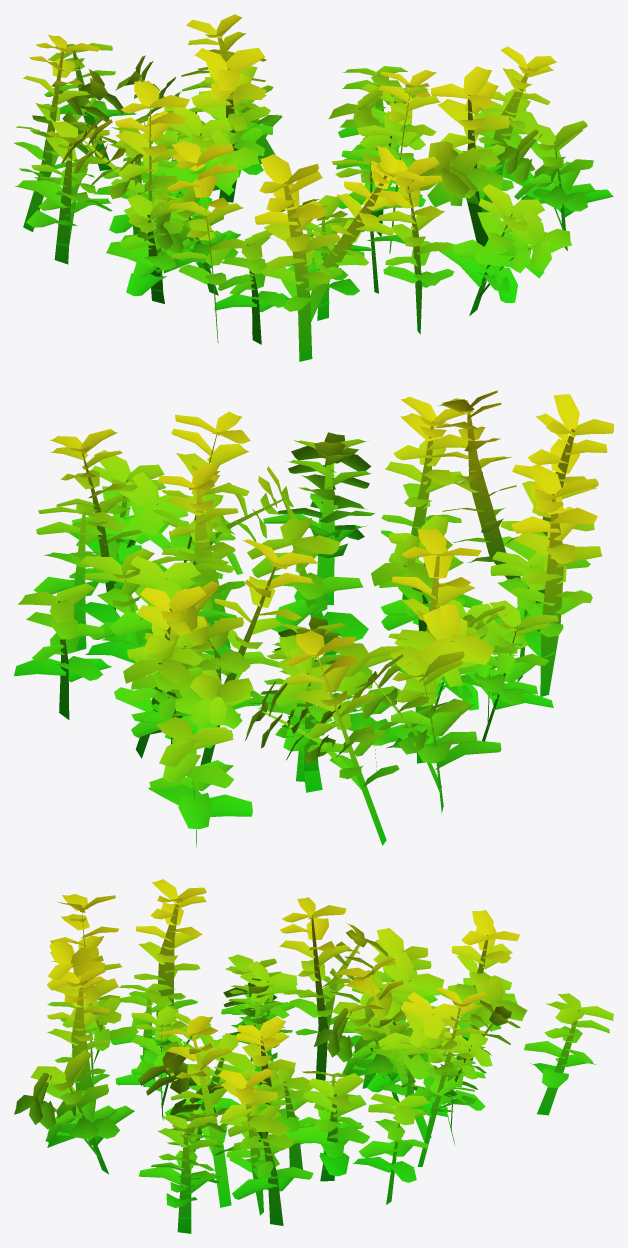
The model's file is Lingonberry_LOD2_Var18.fbx.
The picture shows the model from 3 angles, top to bottom: view 1: azimuth 30°, elevation 25°; view 2: azimuth 150°, elevation 25°; view 3: azimuth 270°, elevation 25°; orthographic projection. The views are drawn at different scales.
Parts seen in each view (by area): view 1: _vg4j_Var18_LOD2; view 2: _vg4j_Var18_LOD2; view 3: _vg4j_Var18_LOD2.
Boxes of the visible parts, box(x1,y1,x2,y2) form: _vg4j_Var18_LOD2: box(14, 14, 613, 361); _vg4j_Var18_LOD2: box(14, 390, 613, 847); _vg4j_Var18_LOD2: box(14, 879, 613, 1233).
Bounding box in the file's own units: 35.21 × 14.83 × 41.89.
